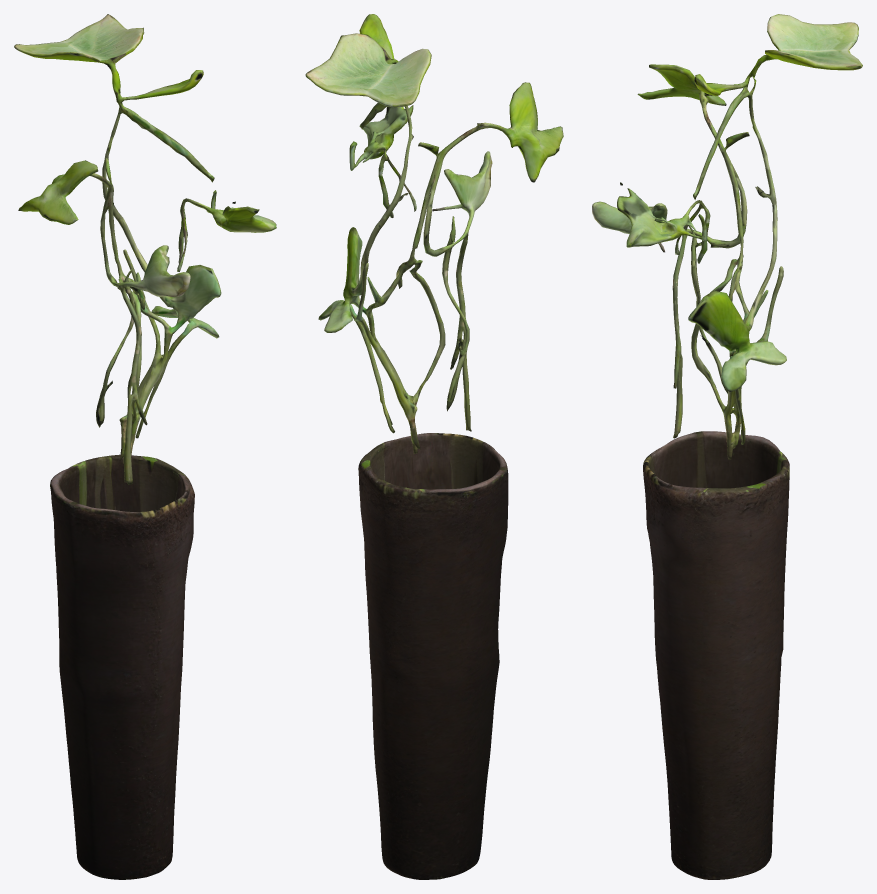
3 renders of one model, left to right at view 1: azimuth 30°, elevation 25°; view 2: azimuth 150°, elevation 25°; view 3: azimuth 270°, elevation 25°, orthographic. The views are drawn at different scales.
Bounding box in the file's own units: 0.5584 × 1.99 × 0.5886.
1 material, 1 textured.
